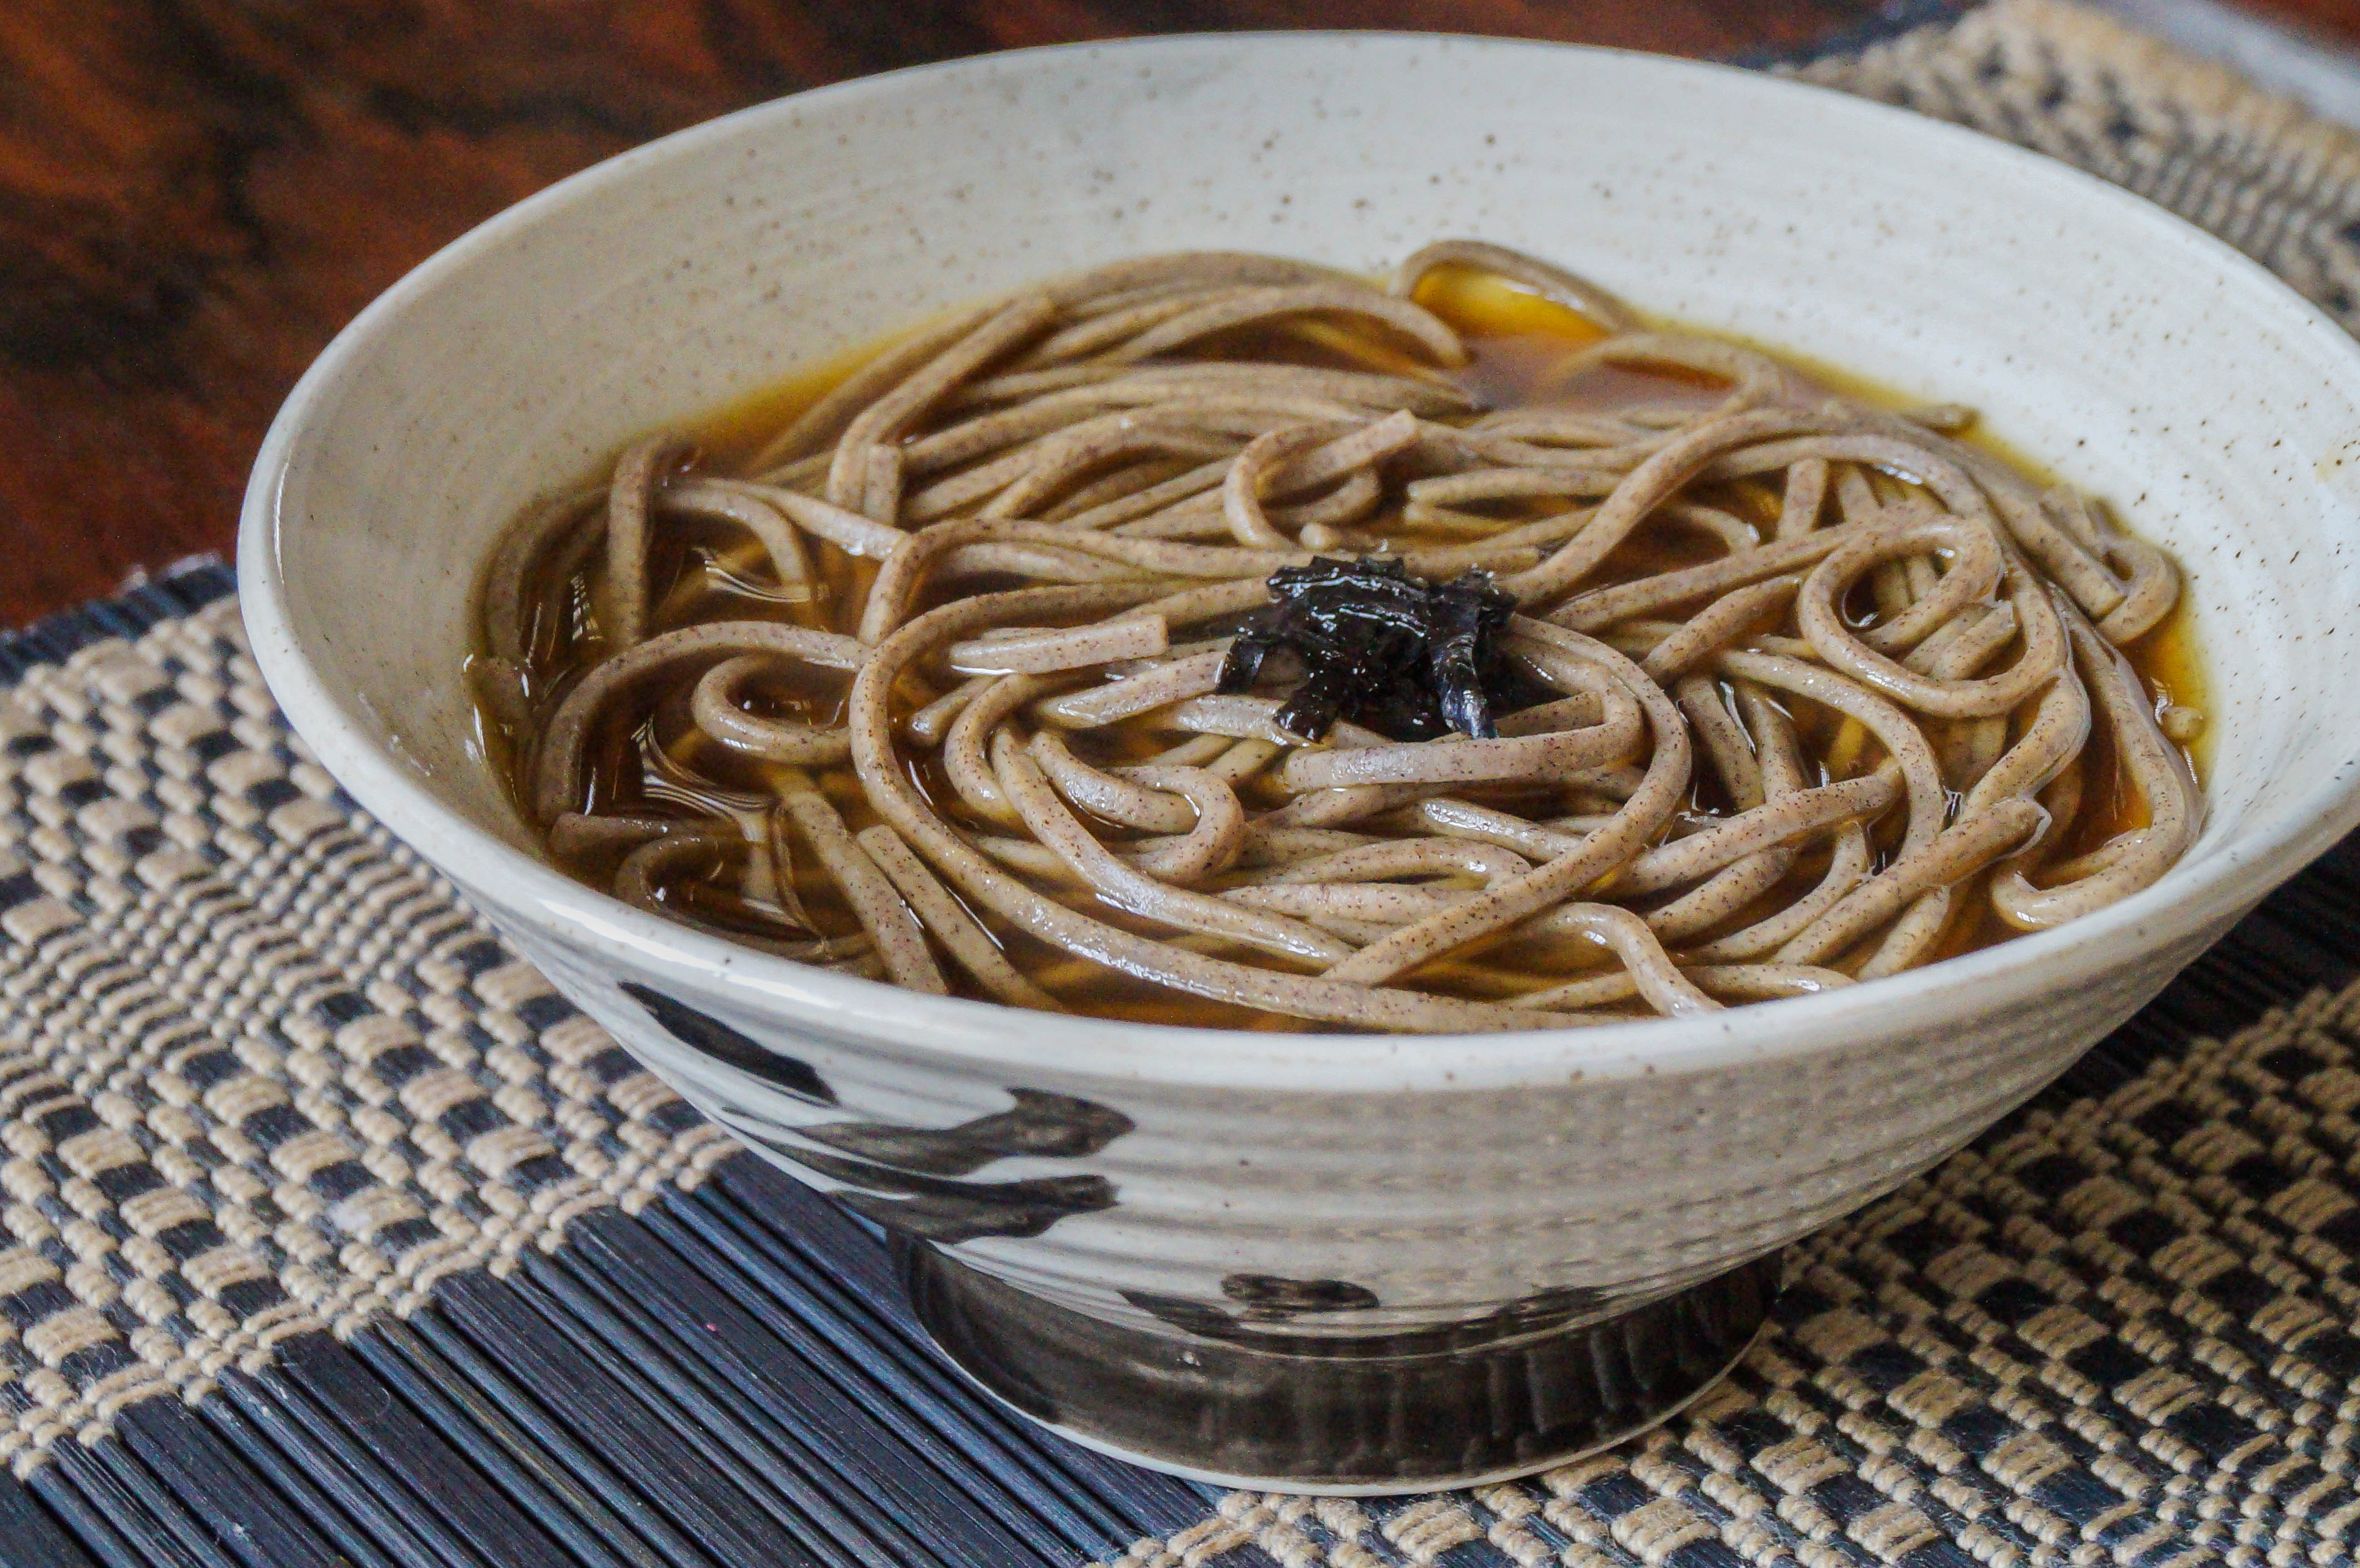Soba: (528, 229, 2241, 1013)
